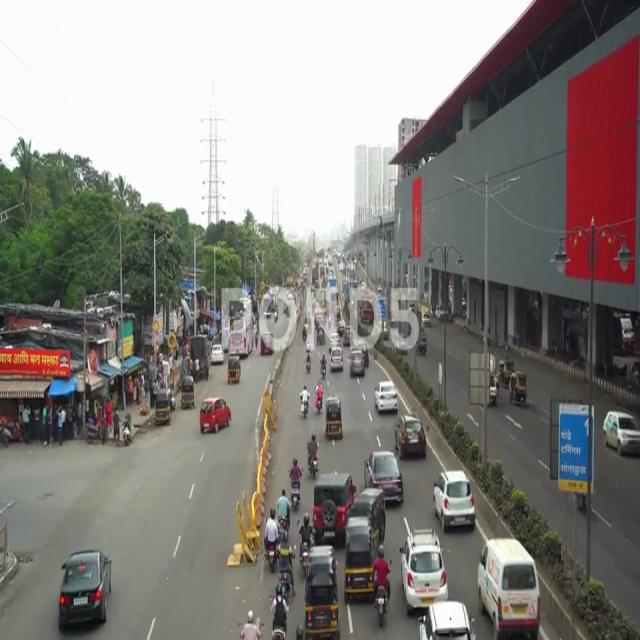car: (476, 544, 542, 636), (52, 542, 117, 628), (399, 534, 449, 608), (432, 475, 474, 530), (601, 412, 640, 459), (198, 394, 233, 436), (364, 451, 399, 492), (395, 416, 429, 457), (373, 384, 400, 413)
motorbike: (376, 542, 392, 634), (278, 532, 297, 600), (264, 509, 279, 570), (289, 454, 303, 507), (306, 432, 321, 476), (297, 383, 311, 419), (313, 380, 325, 414)
rikshaw: (306, 543, 338, 638), (344, 514, 375, 604), (326, 398, 343, 442), (509, 373, 529, 408)
